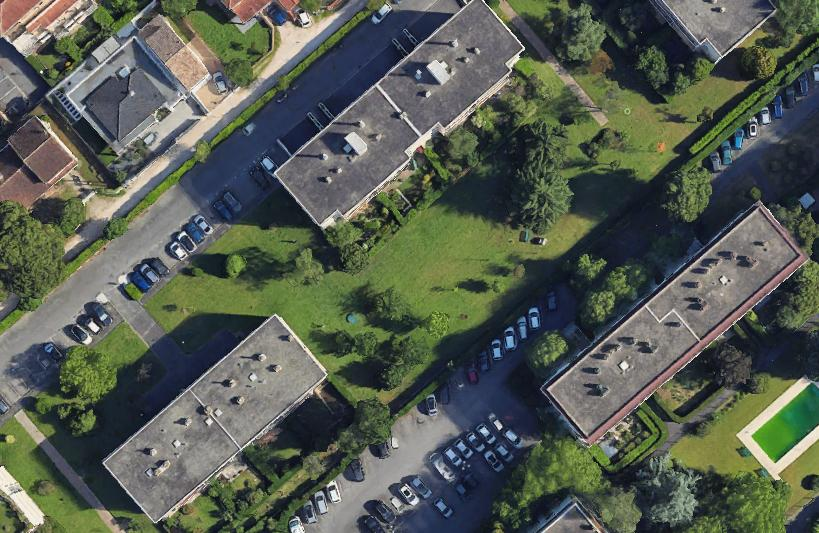immeuble: (536, 200, 810, 448), (270, 0, 535, 237), (98, 311, 333, 527), (648, 0, 775, 62), (534, 496, 606, 532)
maison: (47, 3, 214, 165), (0, 111, 80, 217), (0, 0, 95, 56), (220, 0, 299, 22)
